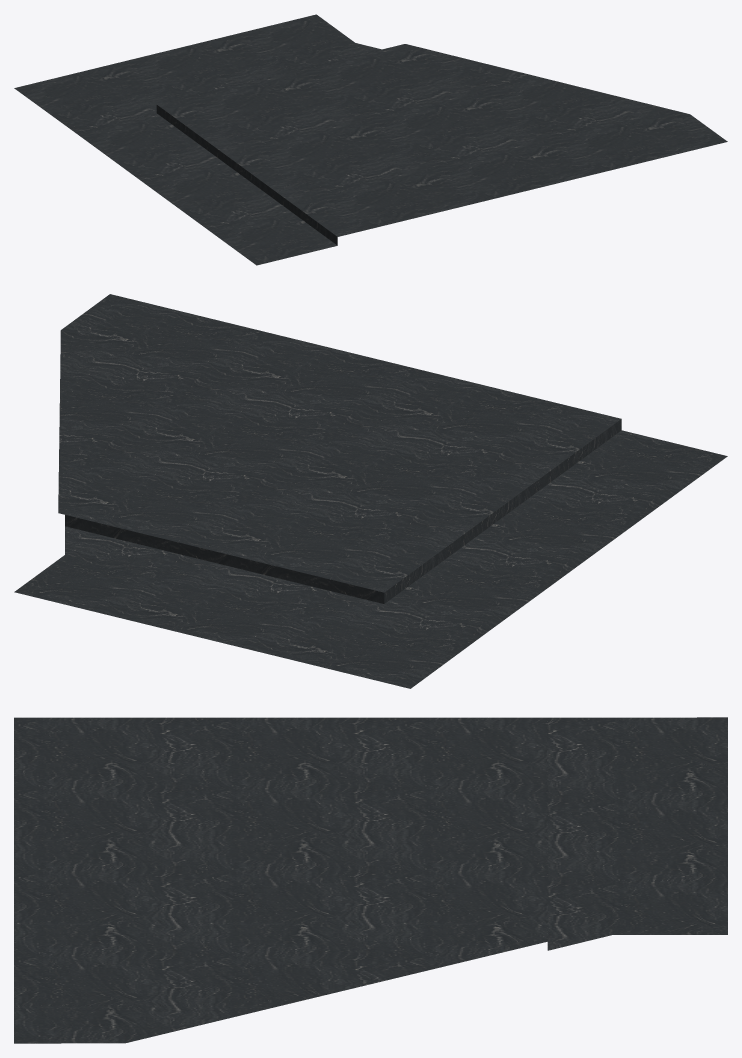
File: Ruleta4.fbx
3 views of the same model, one above another, from view 1: azimuth 30°, elevation 25°; view 2: azimuth 150°, elevation 25°; view 3: azimuth 270°, elevation 25° (orthographic). The views are drawn at different scales.
Visible parts, largest first — view 1: ceilingtop2; view 2: ceilingtop2; view 3: ceilingtop2.
Boxes of the visible parts, x1,y1,x2,y2 form: ceilingtop2: (14, 14, 727, 265); ceilingtop2: (14, 294, 727, 688); ceilingtop2: (14, 717, 727, 1043).
Bounding box in the file's own units: 21.34 × 0.3776 × 19.
1 material, 1 textured.
